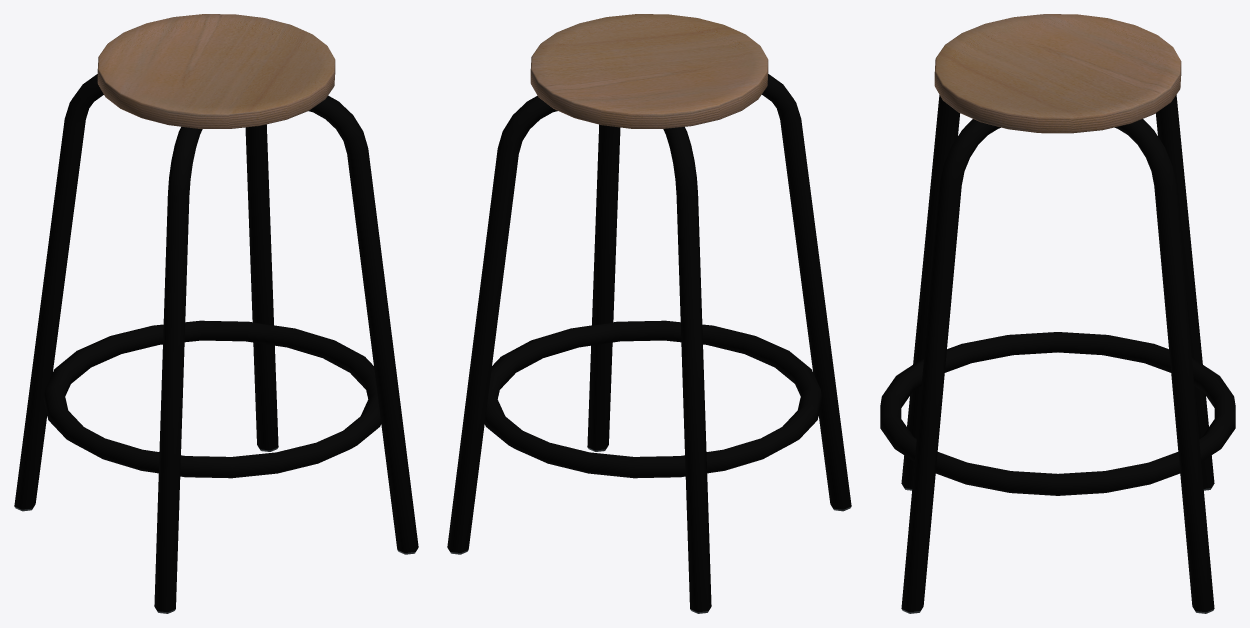
File: chair_2.fbx
3 views of the same model, side by side, from view 1: azimuth 30°, elevation 25°; view 2: azimuth 150°, elevation 25°; view 3: azimuth 270°, elevation 25° (orthographic). The views are drawn at different scales.
Visible parts, largest first — view 1: Final; view 2: Final; view 3: Final.
Part boxes in pixels (x1,y1,x2,y2): Final: (14,14,418,613); Final: (447,14,851,613); Final: (880,14,1235,613).
Bounding box in the file's own units: 46.64 × 69.19 × 46.16.
